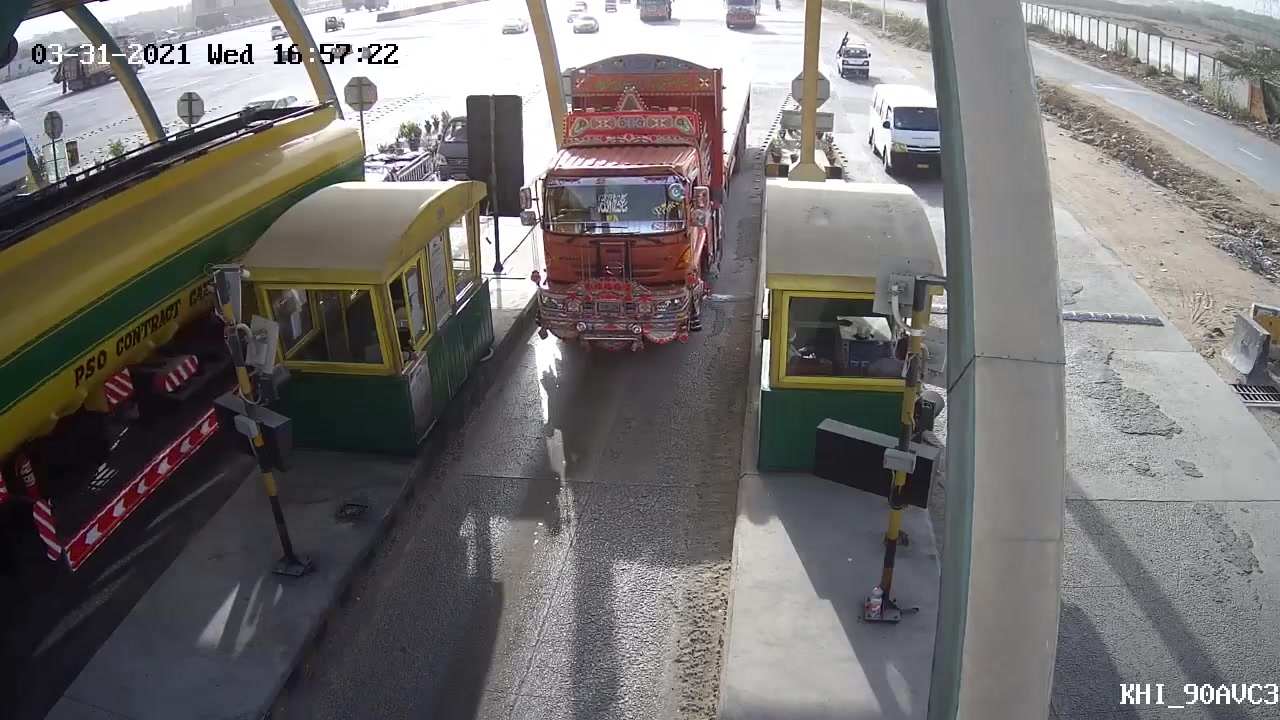F5: (529, 55, 739, 366)
